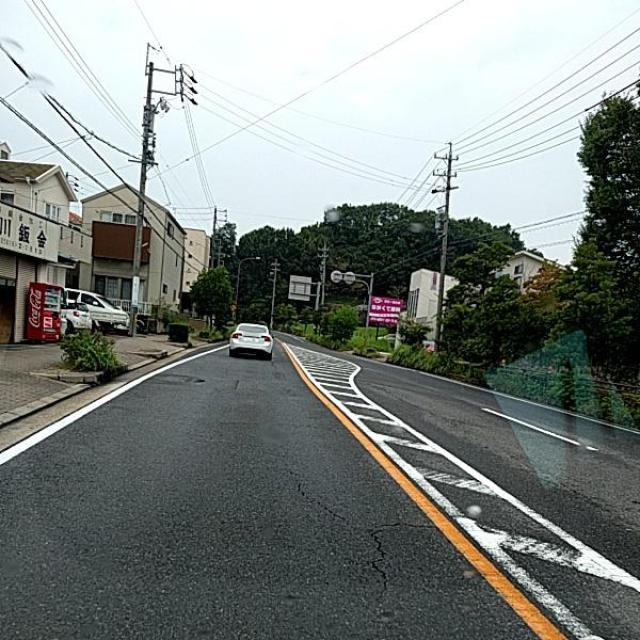Crack: (311, 443, 635, 640)
